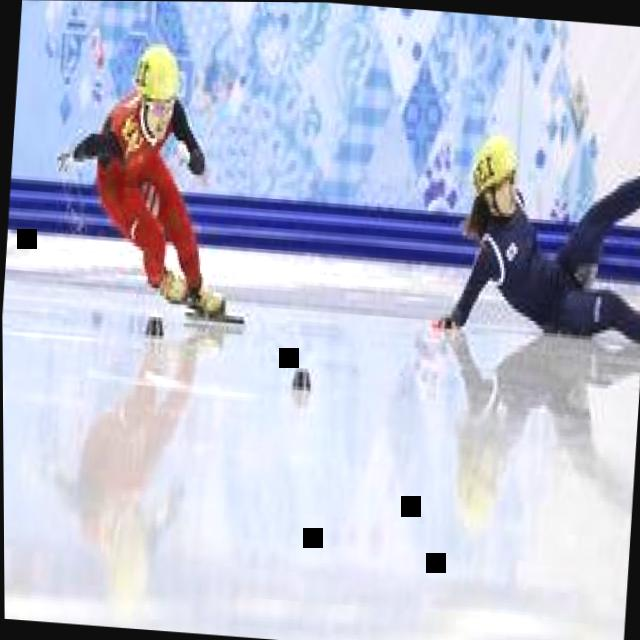Fall-Detected: (430, 70, 640, 357)
